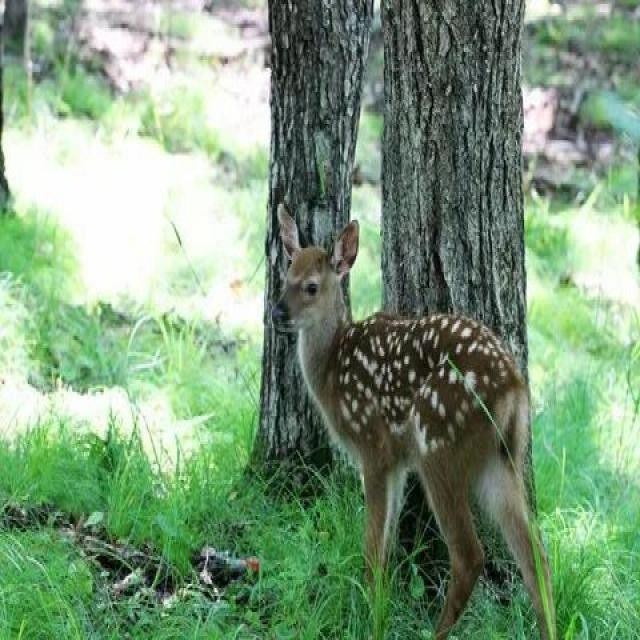deer: (235, 189, 533, 640)
